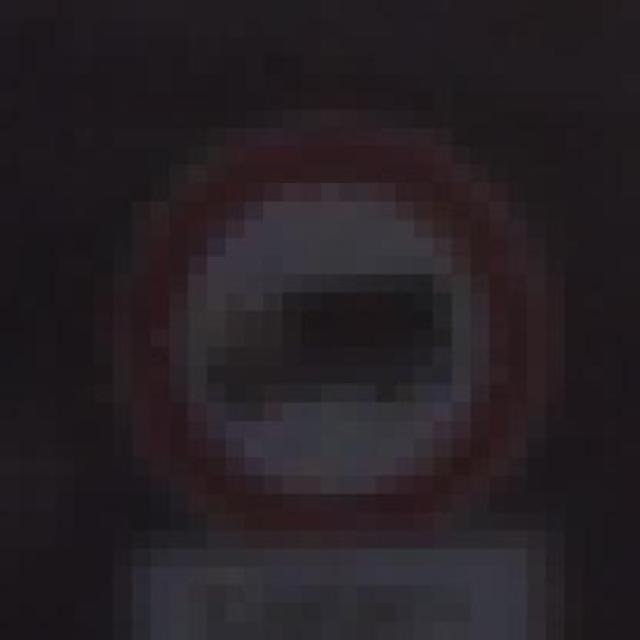Truck traffic is prohibited: (87, 88, 576, 564)
